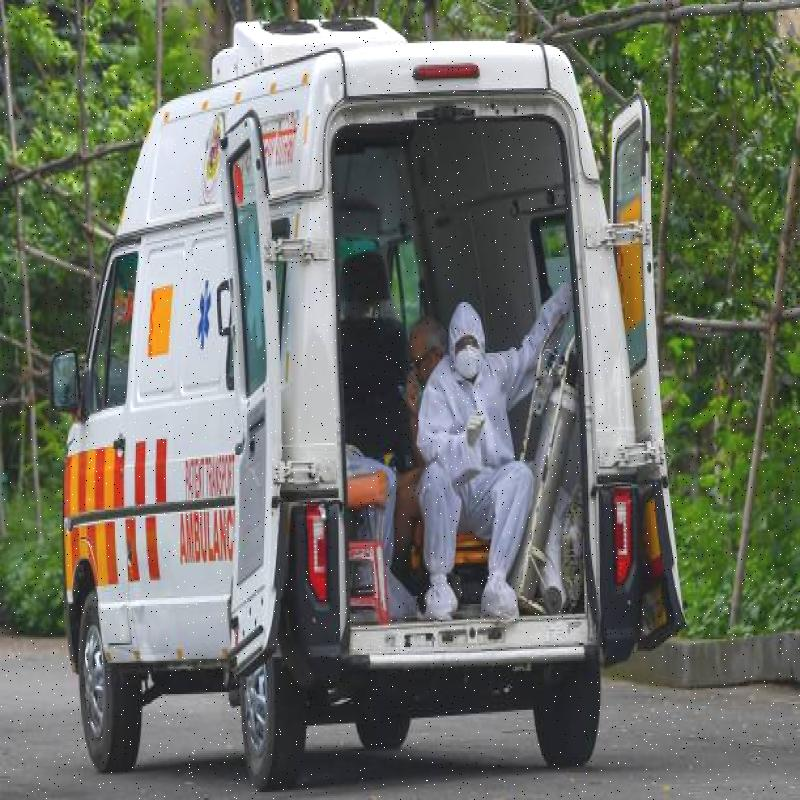ambulance: (66, 34, 620, 772)
